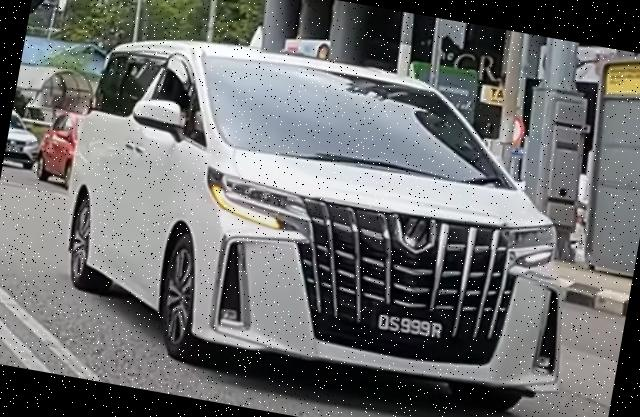License_Plate: (373, 309, 447, 343)
car: (41, 15, 612, 417)
